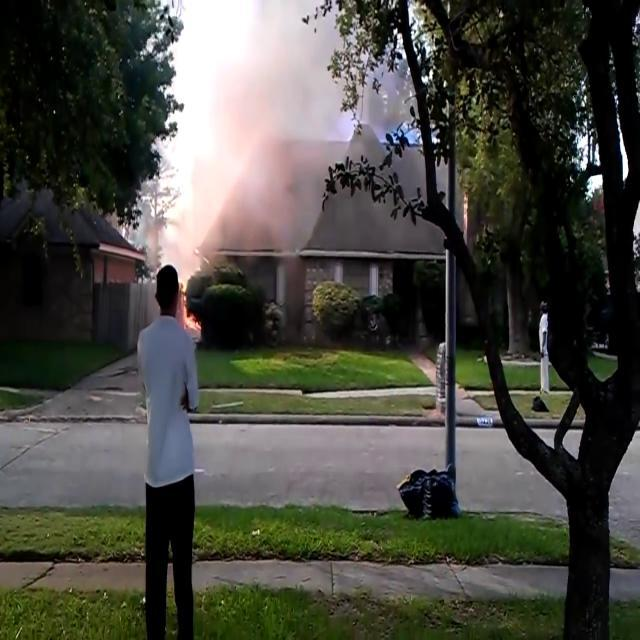Smoke: (170, 1, 404, 352)
